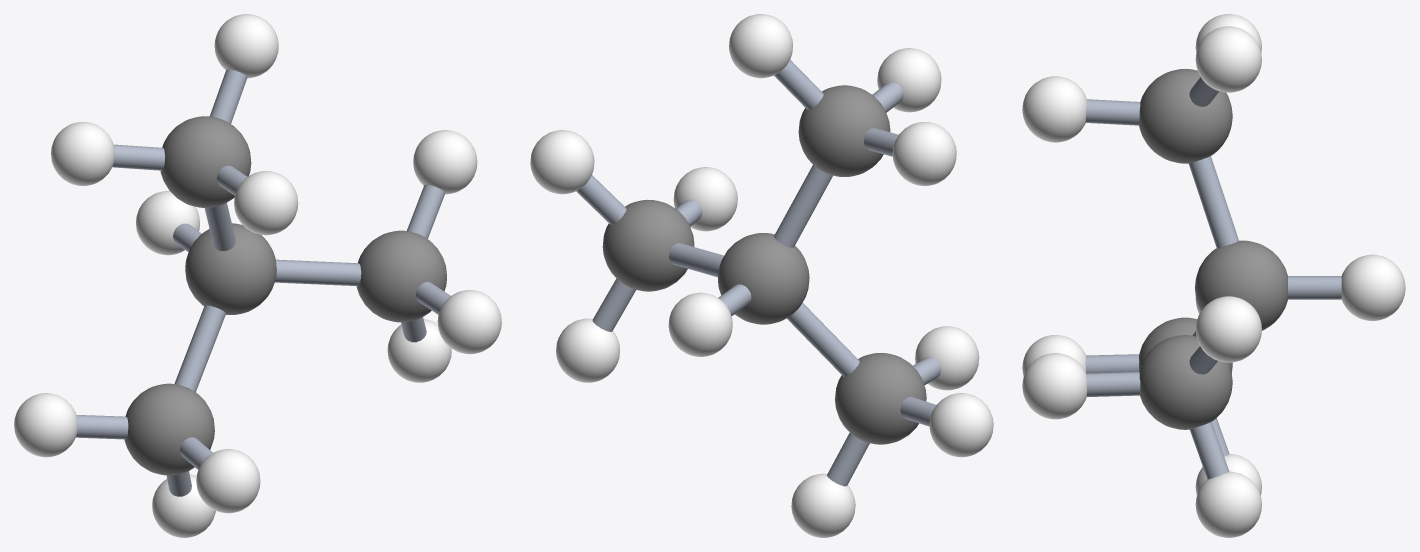
The model's file is isobutane.glb.
3 views of the same model, side by side, from view 1: azimuth 30°, elevation 25°; view 2: azimuth 150°, elevation 25°; view 3: azimuth 270°, elevation 25° (orthographic). The views are drawn at different scales.
Visible parts, largest first — view 1: H (×10), C (×4), bond (×9); view 2: H (×10), C (×4), bond (×11); view 3: H (×9), C (×4), bond (×8).
Boxes of the visible parts, x1=… form: H (×10): x1=14, y1=14, x2=501, y2=537; C (×4): x1=124, y1=116, x2=446, y2=475; bond (×9): x1=76, y1=69, x2=450, y2=469; H (×10): x1=530, y1=14, x2=993, y2=537; C (×4): x1=602, y1=85, x2=926, y2=444; bond (×11): x1=576, y1=59, x2=935, y2=486; H (×9): x1=1022, y1=14, x2=1405, y2=537; C (×4): x1=1139, y1=68, x2=1287, y2=429; bond (×8): x1=1085, y1=77, x2=1341, y2=479.
Bounding box in the file's own units: 0.2083 × 0.22 × 0.1472.
